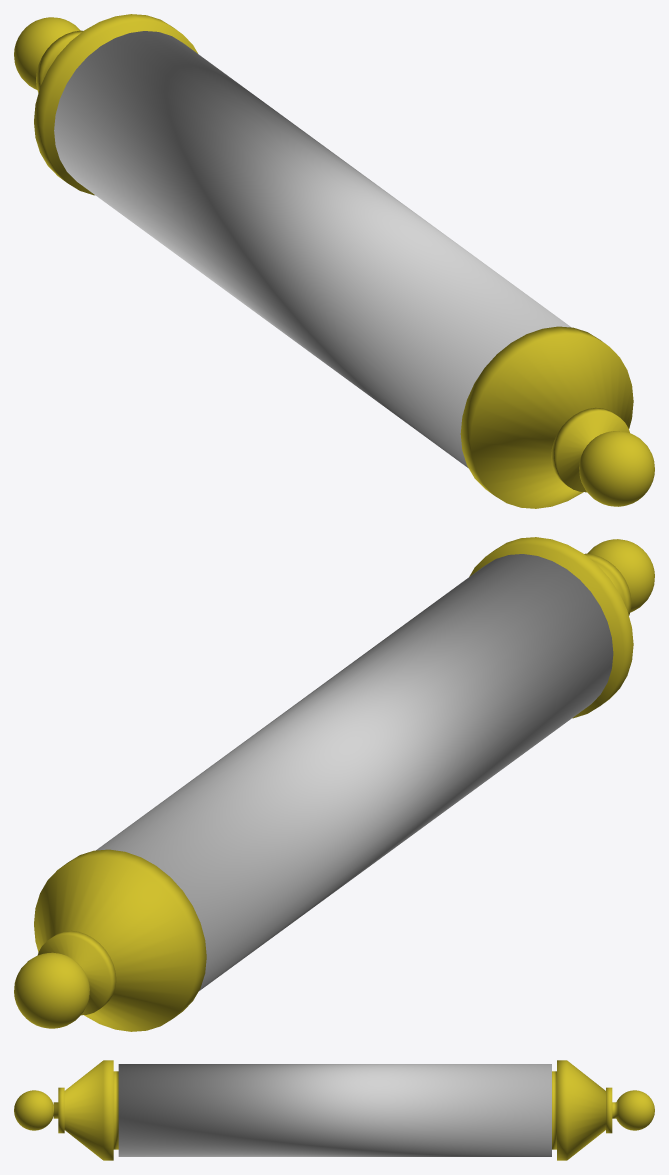
File: scroll.fbx
3 renders of one model, top to bottom at view 1: azimuth 30°, elevation 25°; view 2: azimuth 150°, elevation 25°; view 3: azimuth 270°, elevation 25°, orthographic. The views are drawn at different scales.
Visible parts, largest first — view 1: Scroll (×2); view 2: Scroll (×2); view 3: Scroll (×2).
Boxes of the visible parts, x1,y1,x2,y2 form: Scroll (×2): [14, 14, 654, 508]; Scroll (×2): [14, 537, 654, 1031]; Scroll (×2): [14, 1060, 654, 1160].
Size of the model in its own units: 57.77 by 57.77 by 370.
